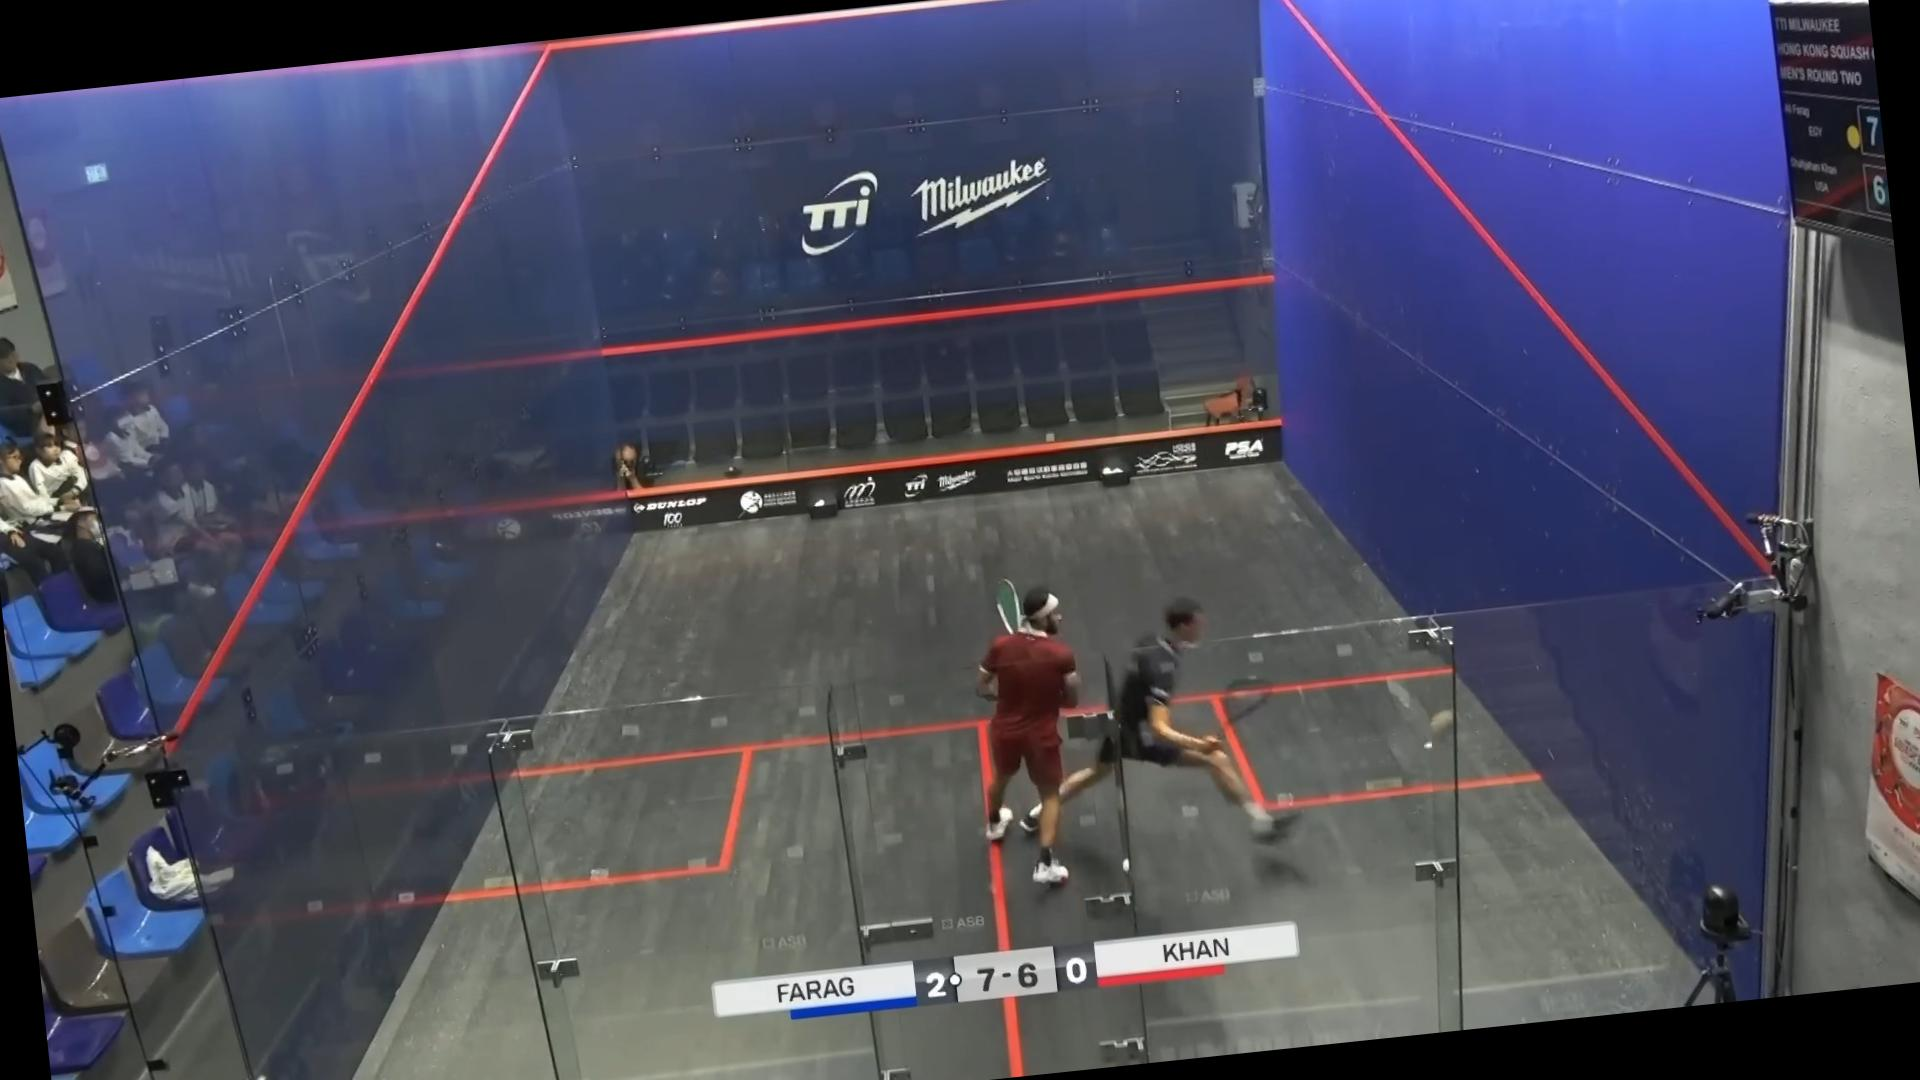Racket: (1191, 670, 1279, 744), (984, 571, 1029, 637)
